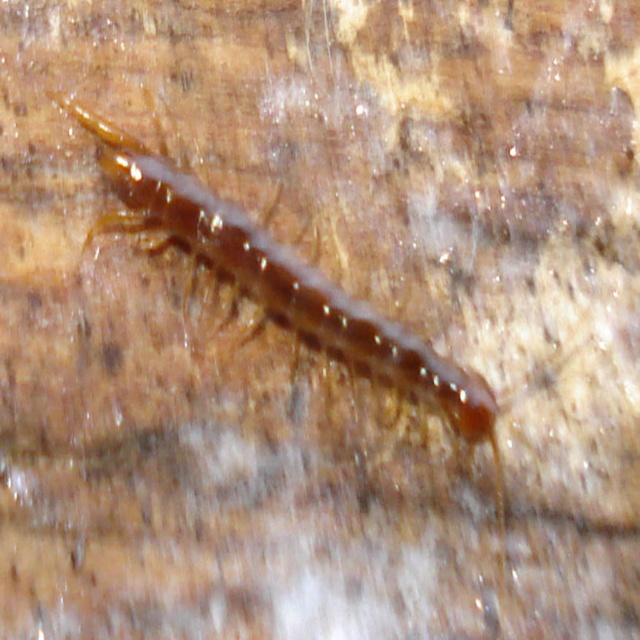Centipede: (45, 92, 591, 586)
